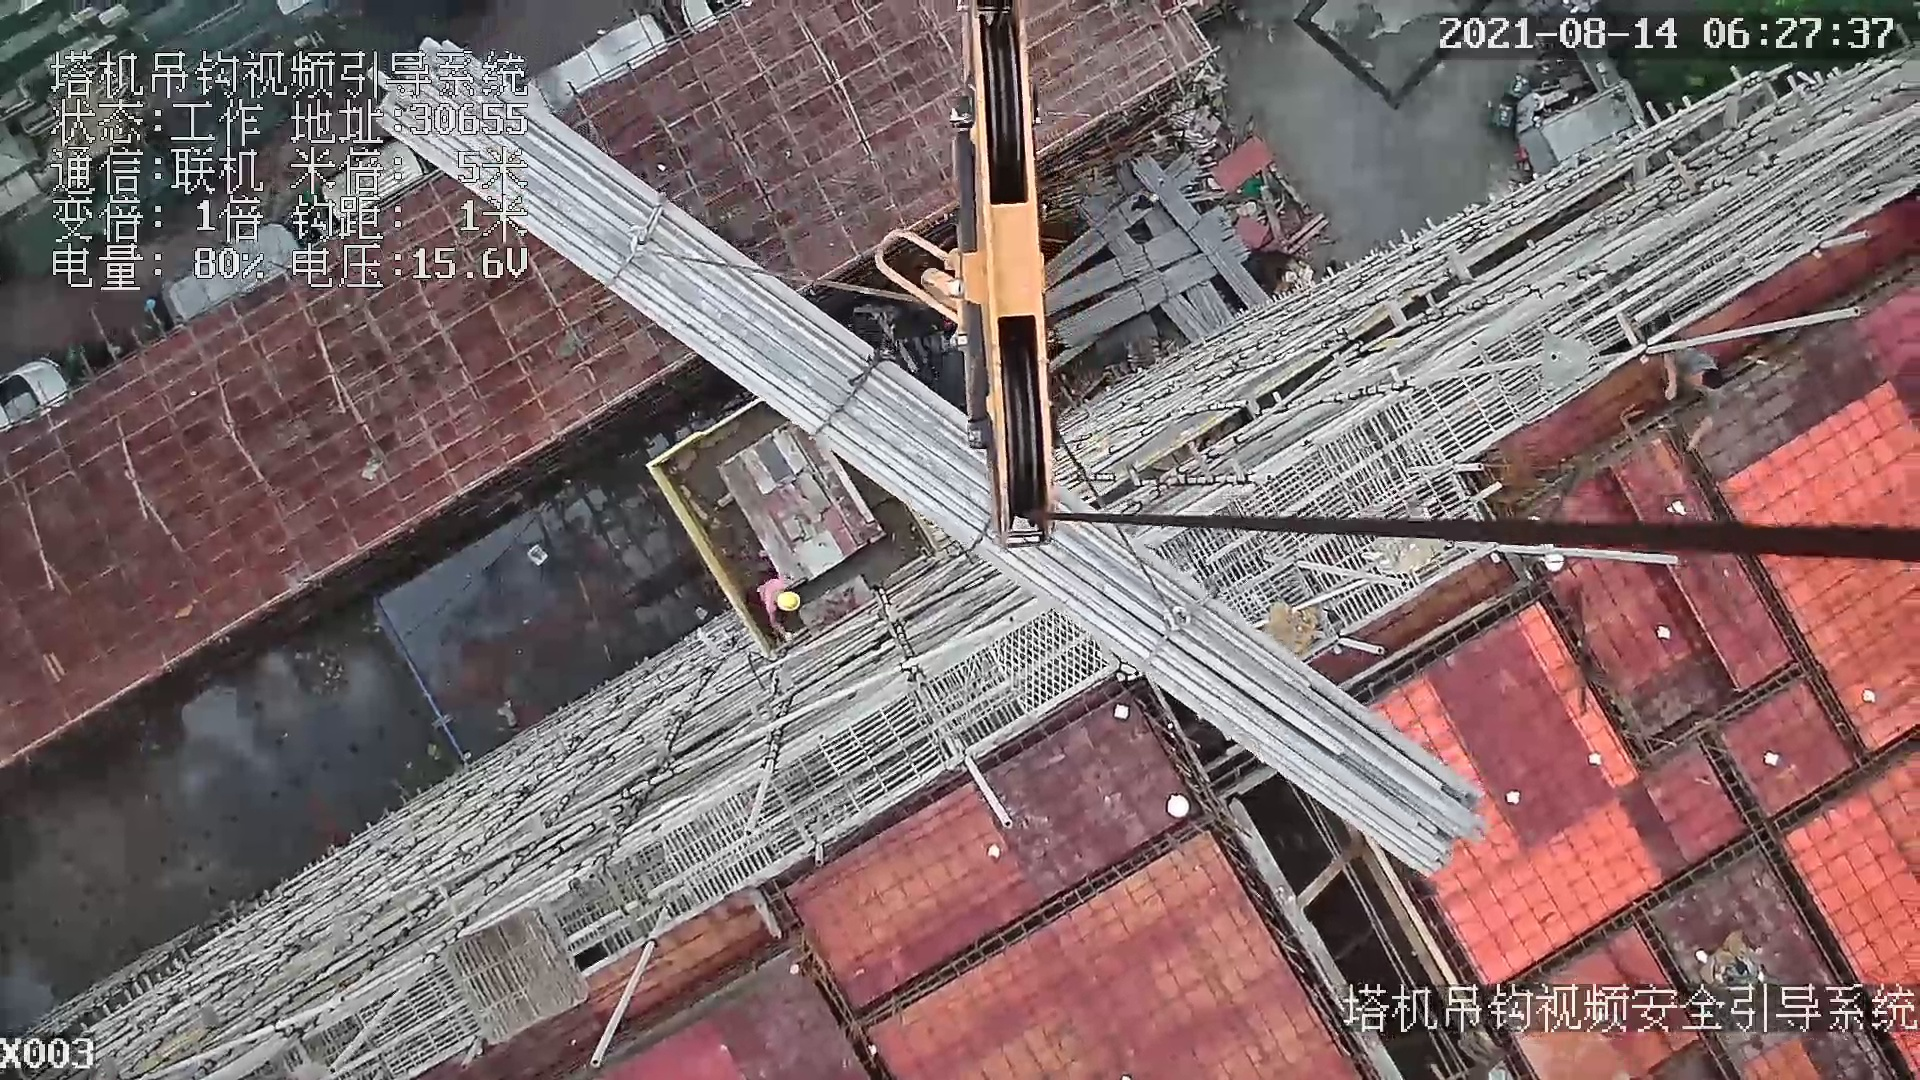helmet: (771, 588, 806, 617)
hook: (956, 1, 1060, 553)
person: (1662, 338, 1729, 453), (752, 573, 817, 642)
